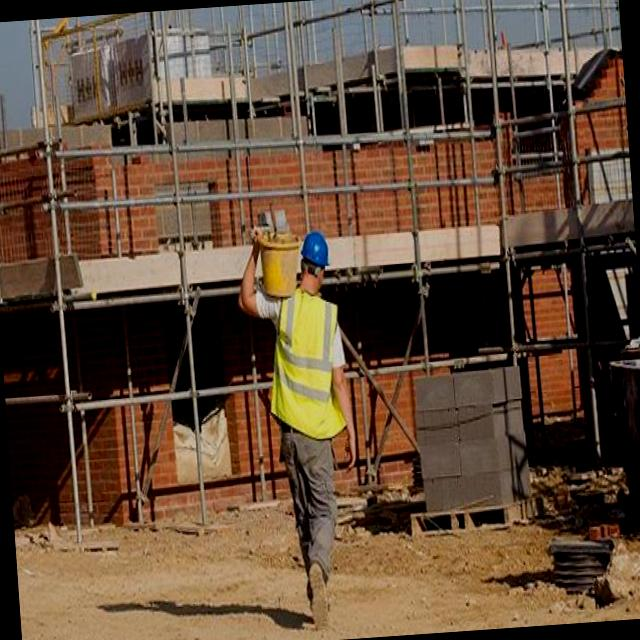helmet: (295, 226, 334, 282)
vest: (256, 286, 351, 448)
